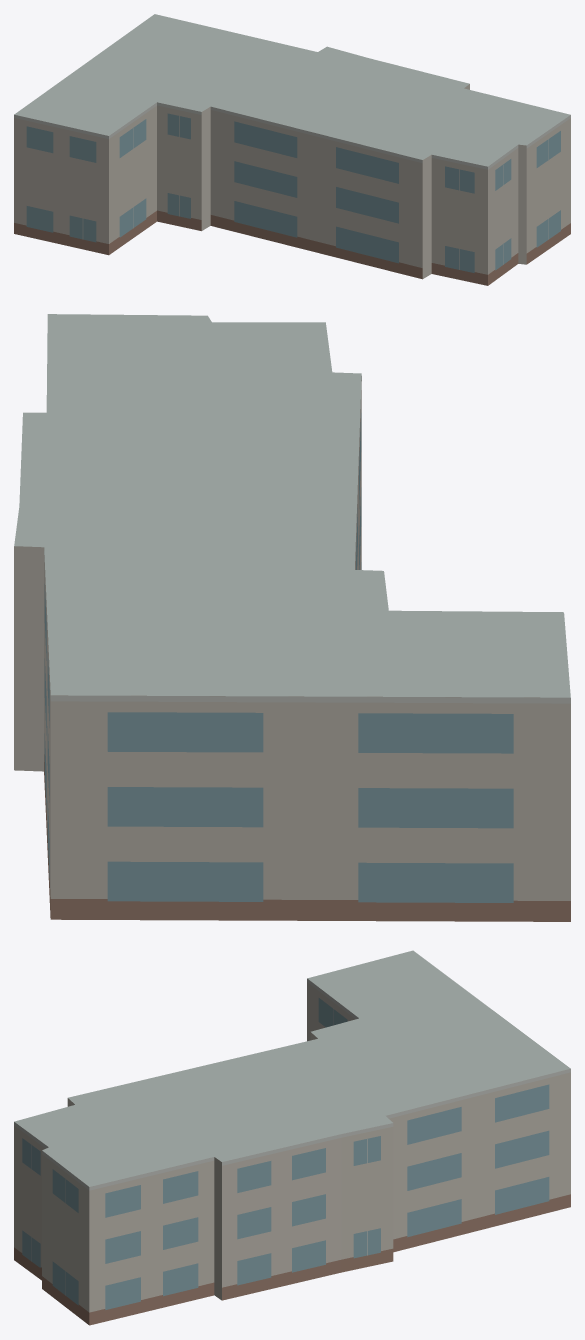
The model's file is survey-upis-32502898.glb.
3 renders of one model, top to bottom at view 1: azimuth 30°, elevation 25°; view 2: azimuth 150°, elevation 25°; view 3: azimuth 270°, elevation 25°, orthographic. The views are drawn at different scales.
Parts seen in each view (by area): view 1: survey-upis-32502898.tmp; view 2: survey-upis-32502898.tmp; view 3: survey-upis-32502898.tmp.
Boxes of the visible parts, <box> form: survey-upis-32502898.tmp: <box>14,14,570,285</box>; survey-upis-32502898.tmp: <box>14,314,570,921</box>; survey-upis-32502898.tmp: <box>14,950,570,1325</box>.
Bounding box in the file's own units: 33.54 × 9.15 × 33.36.
